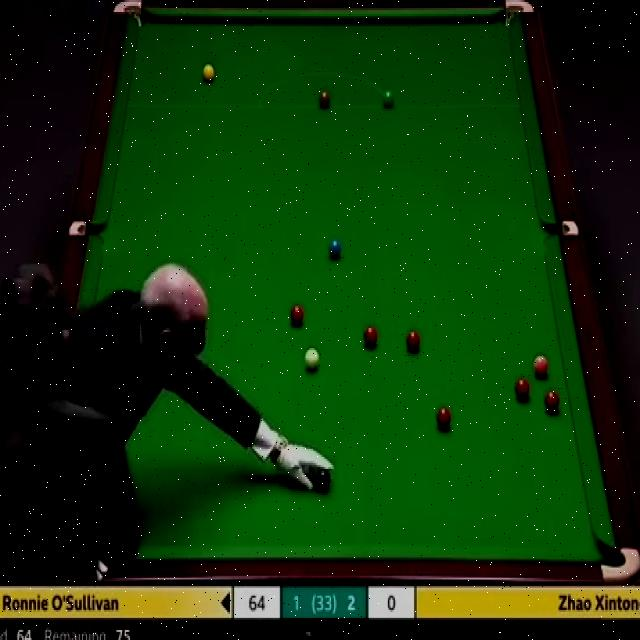black-ball: (316, 466, 332, 491)
blue-ball: (329, 238, 341, 261)
brown-ball: (319, 91, 331, 109)
green-ball: (383, 89, 394, 109)
pink-ball: (533, 353, 550, 379)
red-ball: (435, 406, 452, 431), (406, 327, 422, 352), (362, 324, 378, 348), (515, 378, 530, 400), (546, 391, 559, 414), (291, 304, 303, 327)
white-ball: (303, 347, 322, 375)
yellow-ball: (202, 64, 216, 85)
